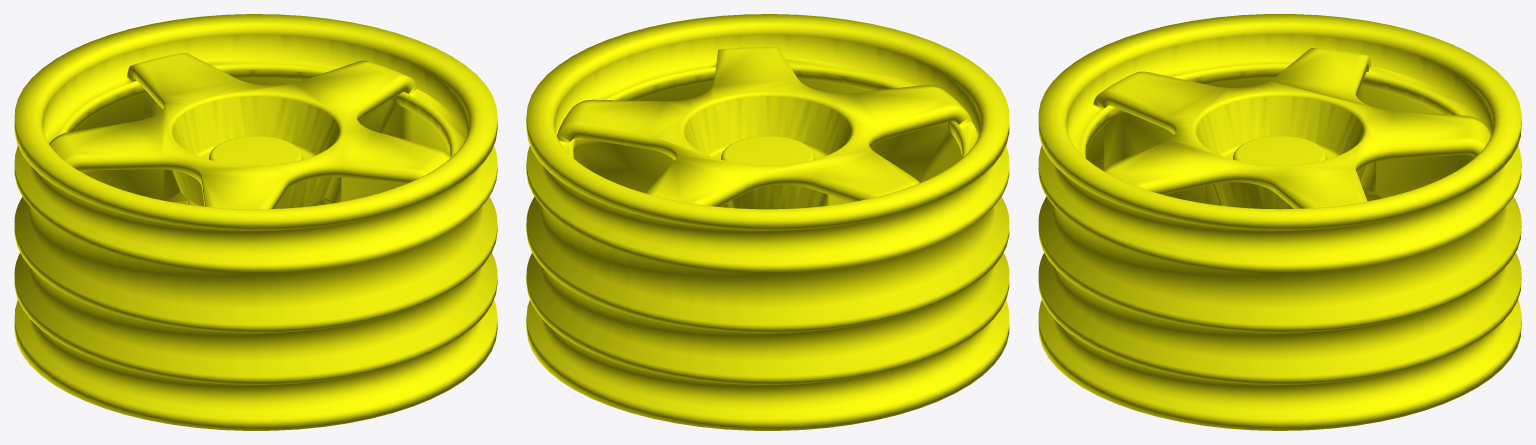
The model's file is down_wheel.dae.
The picture shows the model from 3 angles, left to right: view 1: azimuth 30°, elevation 25°; view 2: azimuth 150°, elevation 25°; view 3: azimuth 270°, elevation 25°; orthographic projection.
Visible parts, largest first — view 1: down_wheel; view 2: down_wheel; view 3: down_wheel.
Boxes of the visible parts, <box> form: down_wheel: <box>14,14,497,430</box>; down_wheel: <box>526,14,1009,430</box>; down_wheel: <box>1038,14,1521,430</box>.
Bounding box in the file's own units: 0.514 × 0.5139 × 0.265.
Materials: 1 (1 with a texture image).
